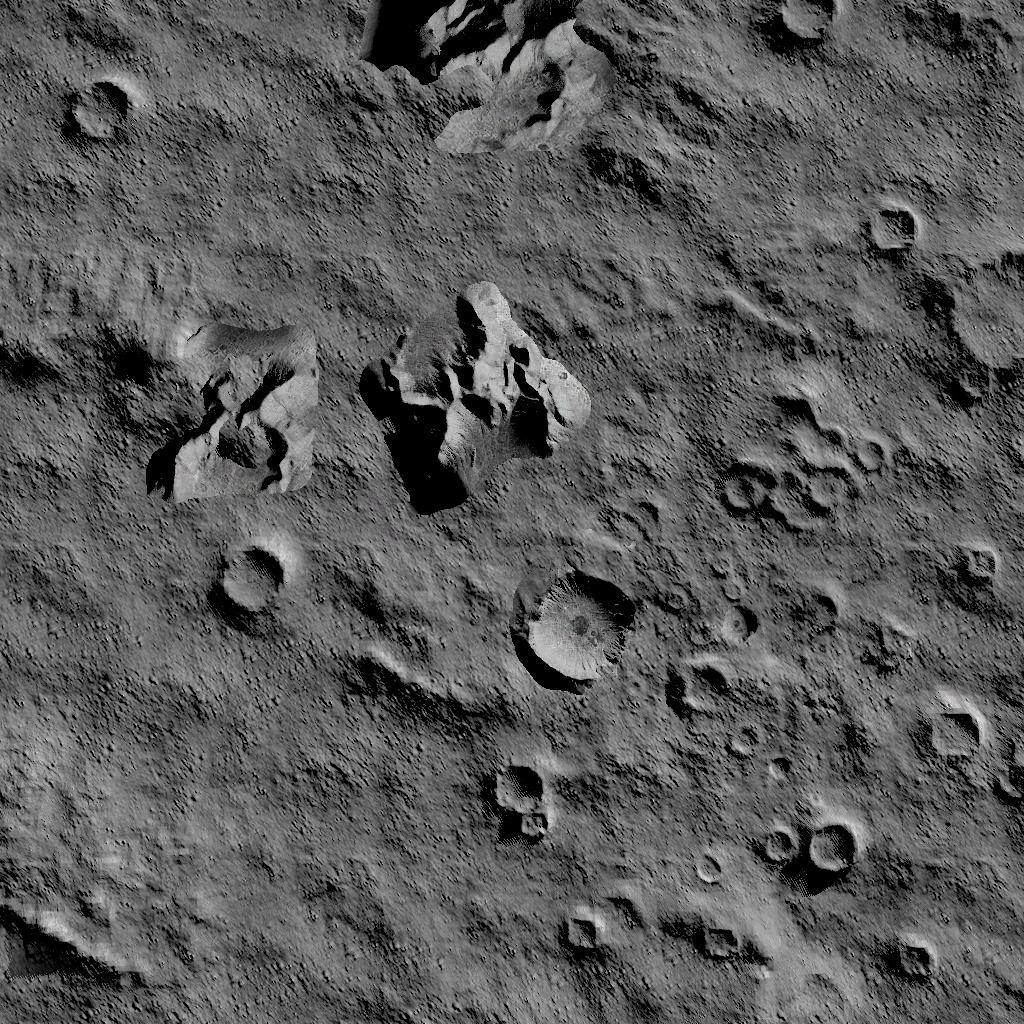Boulders: (346, 266, 583, 505), (120, 290, 309, 486), (392, 0, 615, 148)
Crater: (720, 378, 888, 520), (518, 567, 636, 684), (947, 226, 1024, 376), (213, 532, 293, 618), (52, 74, 134, 144), (758, 818, 856, 866), (488, 760, 552, 833), (862, 199, 926, 257), (920, 700, 980, 754), (670, 654, 732, 704), (779, 0, 848, 42), (950, 523, 1002, 569), (987, 758, 1024, 816), (716, 596, 762, 638), (562, 904, 605, 946), (878, 920, 924, 958), (693, 914, 738, 950), (686, 845, 719, 881), (722, 736, 748, 768)
Plan surface: (211, 652, 479, 954), (0, 514, 197, 832), (147, 0, 373, 192)
